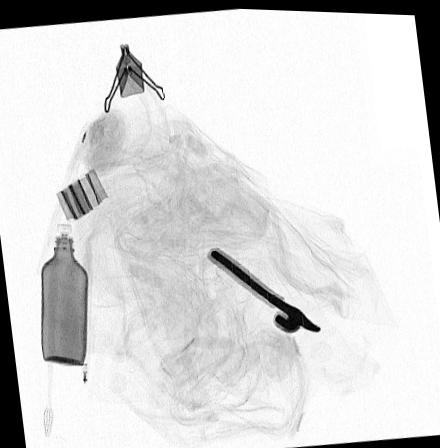Pliers: (206, 247, 324, 333)
